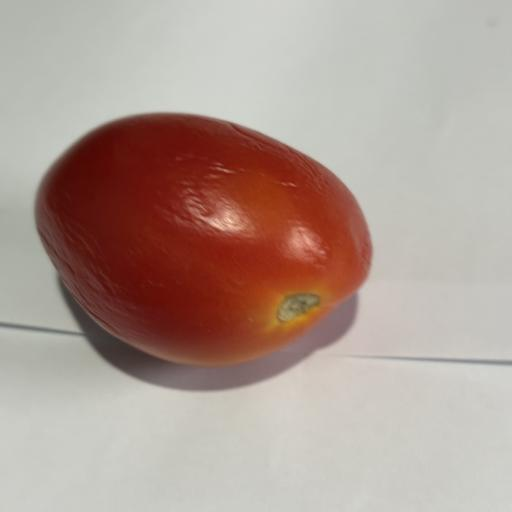spoiled: (36, 114, 372, 365)
